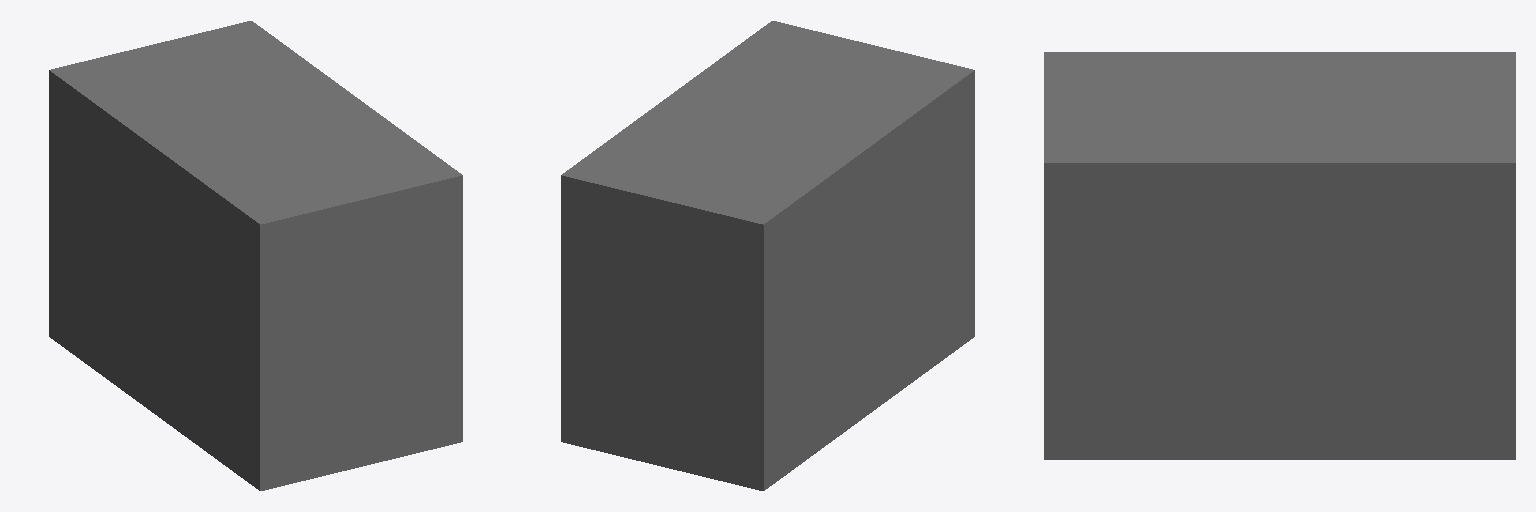
The robot description file, URDF, robot "box.urdf":
<?xml version="1.0" ?>
<robot name="box.urdf">
  <link name="baseLink">
    <contact>
      <lateral_friction value="1.0"/>
      <rolling_friction value="0.0001"/>
      <inertia_scaling value="3.0"/>
    </contact>
    <inertial>
      <origin rpy="0 0 0" xyz="0 0 0"/>
       <mass value="0.1"/>
       <inertia ixx="1" ixy="0" ixz="0" iyy="1" iyz="0" izz="1"/>
    </inertial>
    <visual>
      <origin rpy="0 0 0" xyz="0 0 0"/>
      <geometry>
        <!-- <box size="0.20199999999999999 0.365 0.254"/> -->
        <mesh filename="box/box.obj" scale="0.20199999999999999 0.365 0.254"/>
      </geometry>
      <material name="white">
        <color rgba="0.5 0.5 0.5 1"/>
      </material>
    </visual>
    <collision>
      <origin rpy="0 0 0" xyz="0 0 0"/>
      <geometry>
        <mesh filename="box/box.obj" scale="0.20199999999999999 0.365 0.254"/>
	 	    <!-- <box size="0.20199999999999999 0.365 0.254"/> -->
      </geometry>
    </collision>
  </link>
</robot>

--- Render facts (derived) ---
The picture shows the robot from 3 angles, left to right: view 1: azimuth 30°, elevation 25°; view 2: azimuth 150°, elevation 25°; view 3: azimuth 270°, elevation 25°; orthographic projection.
Robot: box.urdf — 1 links, 0 joints (none); root link baseLink; default pose: every joint at zero.
Links seen in each view (by area): view 1: baseLink; view 2: baseLink; view 3: baseLink.
Boxes of the visible links, x1,y1,x2,y2 form: baseLink: (49,21,462,490); baseLink: (561,21,974,490); baseLink: (1044,52,1515,459).
Size in the robot's own frame: 0.202 by 0.365 by 0.254 metres.
1 mesh visuals loaded from 1 distinct referenced files (1 OBJ).
